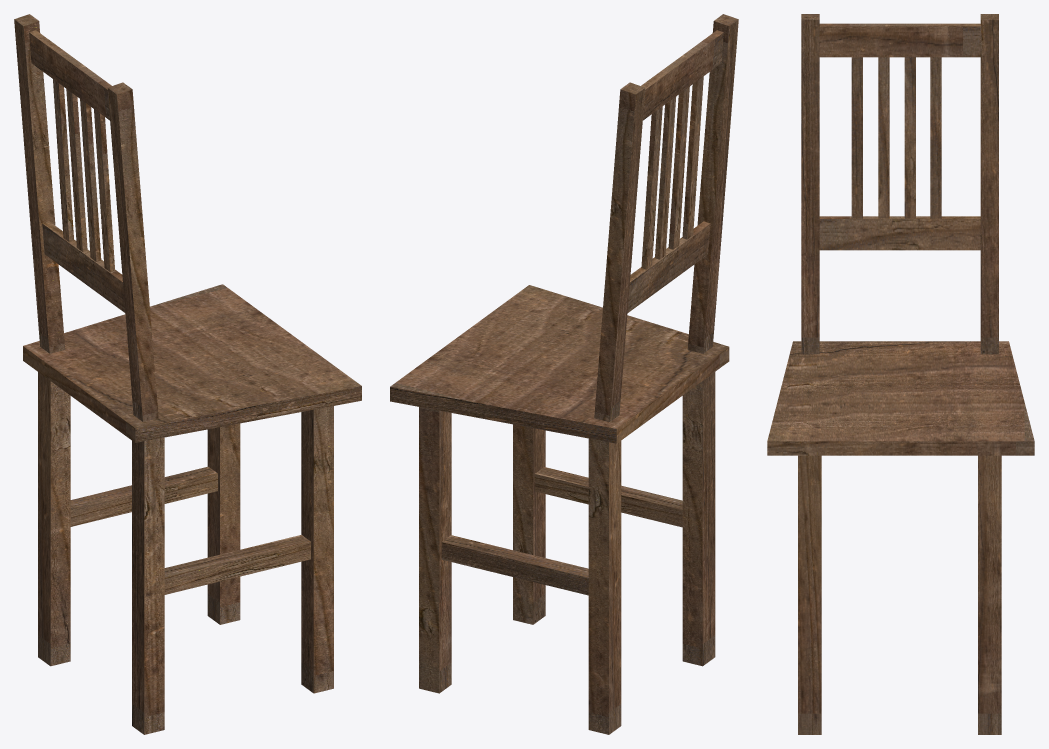
File: Kärpänen_Tuoli.fbx
3 renders of one model, left to right at view 1: azimuth 30°, elevation 25°; view 2: azimuth 150°, elevation 25°; view 3: azimuth 270°, elevation 25°, orthographic. The views are drawn at different scales.
Visible parts, largest first — view 1: Cube.007; view 2: Cube.007; view 3: Cube.007.
Boxes of the visible parts, left/top/right/bottom form: Cube.007: left=14, top=14, right=361, bottom=734; Cube.007: left=390, top=14, right=738, bottom=734; Cube.007: left=767, top=14, right=1034, bottom=734.
Size of the model in its own units: 973 by 2647 by 1032.
Materials: 1 (1 with a texture image).
